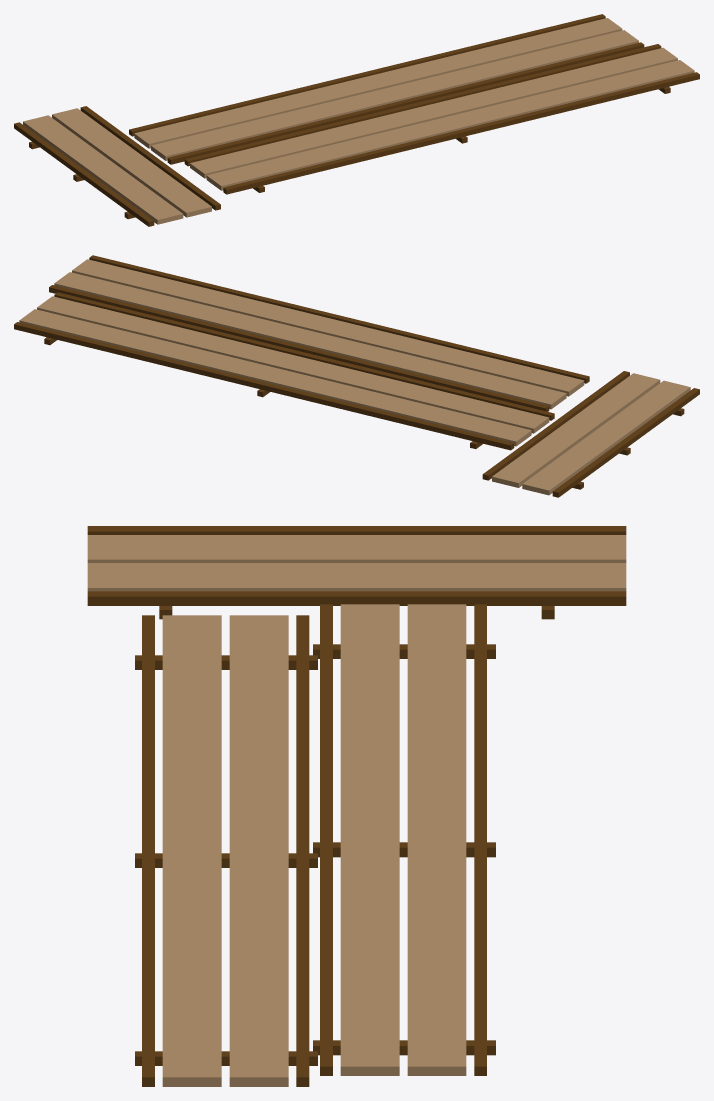
Rendered from plank_2.fbx.
3 renders of one model, top to bottom at view 1: azimuth 30°, elevation 25°; view 2: azimuth 150°, elevation 25°; view 3: azimuth 270°, elevation 25°, orthographic. The views are drawn at different scales.
Parts seen in each view (by area): view 1: plank_2; view 2: plank_2; view 3: plank_2.
Boxes of the visible parts, x1=… form: plank_2: x1=14, y1=14, x2=699, y2=226; plank_2: x1=14, y1=255, x2=699, y2=497; plank_2: x1=87, y1=526, x2=626, y2=1086.
Size of the model in its own units: 1331 by 21.19 by 547.
